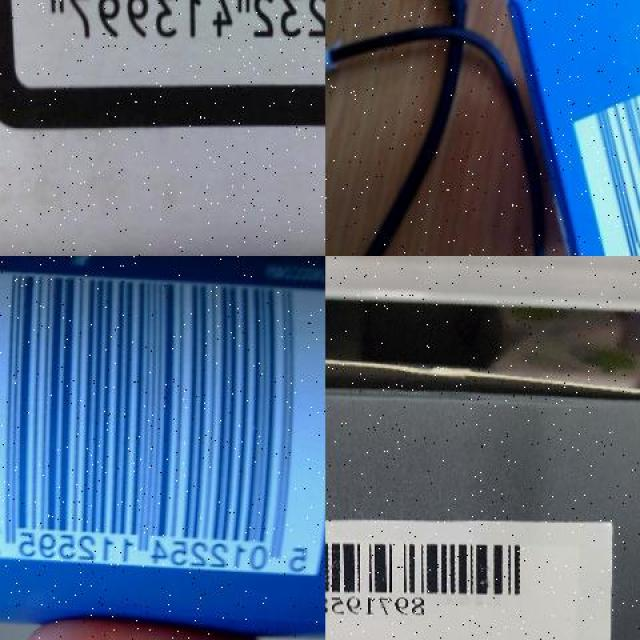Barcode: (0, 267, 325, 561), (4, 0, 325, 92), (325, 527, 539, 616), (570, 12, 640, 256)
